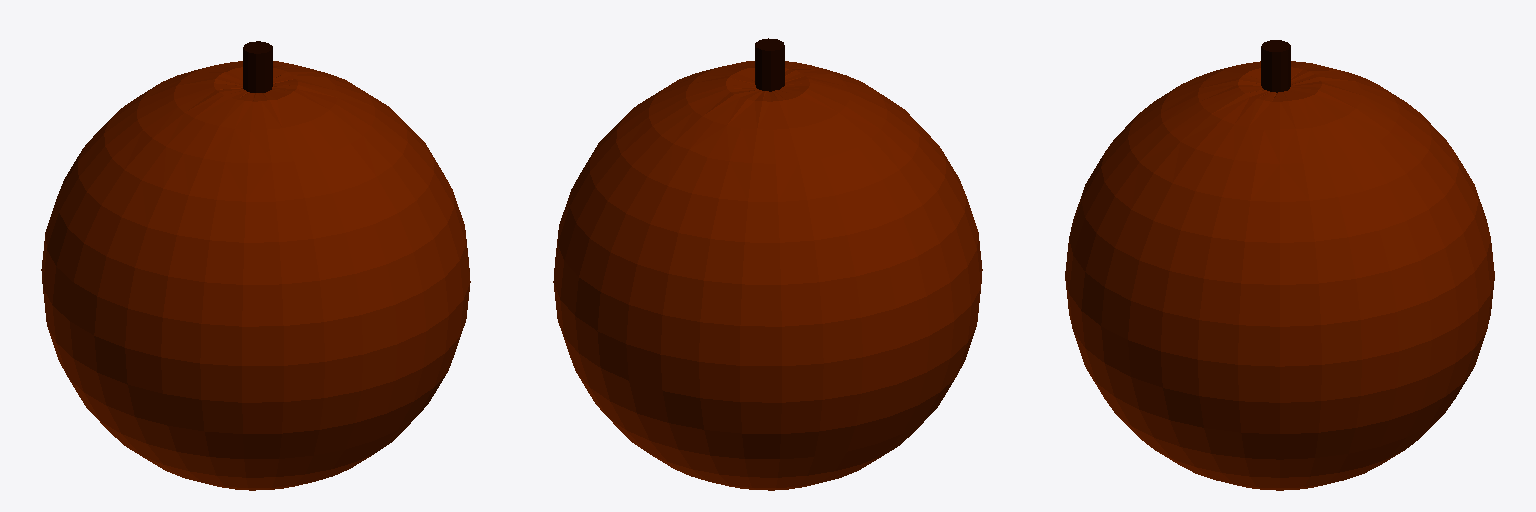
Rendered from orange.obj.
3 renders of one model, left to right at view 1: azimuth 30°, elevation 25°; view 2: azimuth 150°, elevation 25°; view 3: azimuth 270°, elevation 25°, orthographic.
Parts seen in each view (by area): view 1: Orange.004, Sphere.005; view 2: Orange.004, Sphere.005; view 3: Orange.004, Sphere.005.
Part boxes in pixels (bbox=[...]): Orange.004: bbox=[41, 61, 470, 490]; Sphere.005: bbox=[243, 41, 272, 92]; Orange.004: bbox=[553, 61, 982, 490]; Sphere.005: bbox=[755, 38, 784, 91]; Orange.004: bbox=[1065, 61, 1494, 490]; Sphere.005: bbox=[1261, 40, 1290, 92].
Size of the model in its own units: 60 by 64.6 by 60.